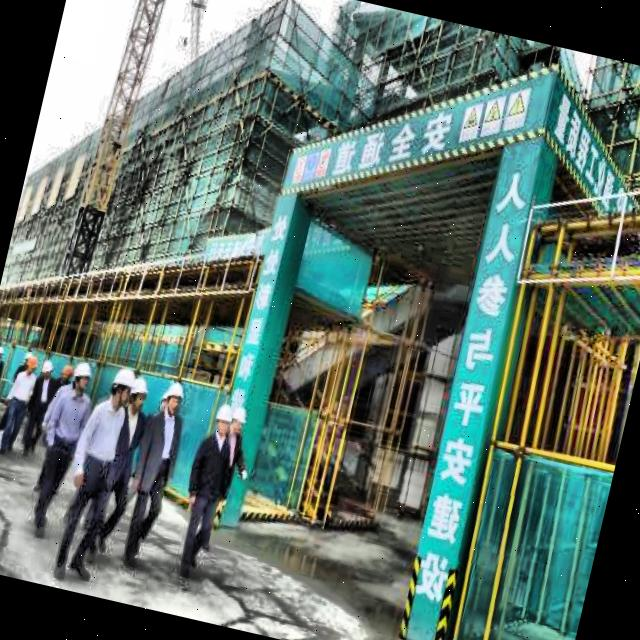helmet: (106, 360, 142, 411), (68, 351, 99, 398), (210, 399, 238, 442), (127, 374, 154, 418), (162, 378, 188, 419), (227, 400, 251, 440), (37, 354, 58, 384), (59, 361, 76, 384), (24, 352, 40, 376)
